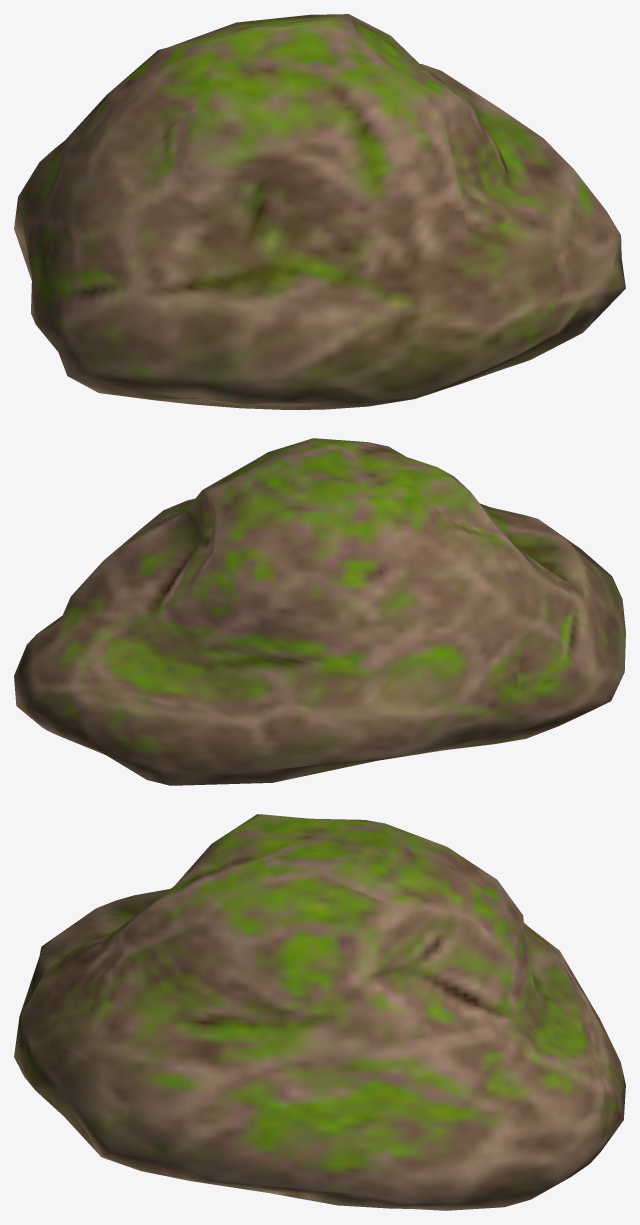
Rendered from sb_obj_nature006_Stone03b.fbx.
3 renders of one model, top to bottom at view 1: azimuth 30°, elevation 25°; view 2: azimuth 150°, elevation 25°; view 3: azimuth 270°, elevation 25°, orthographic. The views are drawn at different scales.
Visible parts, largest first — view 1: sb_obj_nature006_Stone03b; view 2: sb_obj_nature006_Stone03b; view 3: sb_obj_nature006_Stone03b.
Part boxes in pixels (x1,y1,x2,y2): sb_obj_nature006_Stone03b: (14, 14, 625, 409); sb_obj_nature006_Stone03b: (14, 438, 625, 785); sb_obj_nature006_Stone03b: (14, 814, 625, 1210).
Size of the model in its own units: 0.6374 by 0.3119 by 0.6467.
